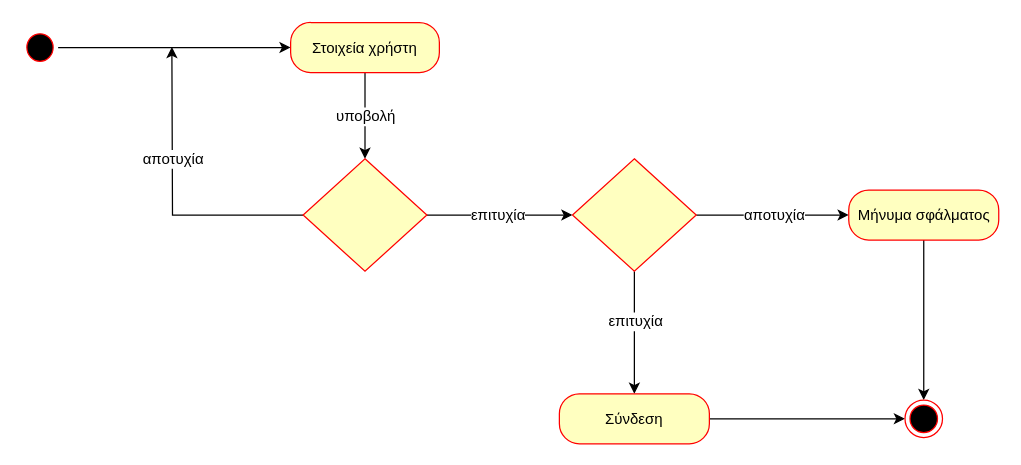
This 1021x465 diagram has some shape labels left out. The box of each missing label's shape, as (x1, y1, x2, y2) in pixels:
Αποθήκευση: (571, 158, 696, 271)
Επαλήθευση: (302, 158, 427, 271)
